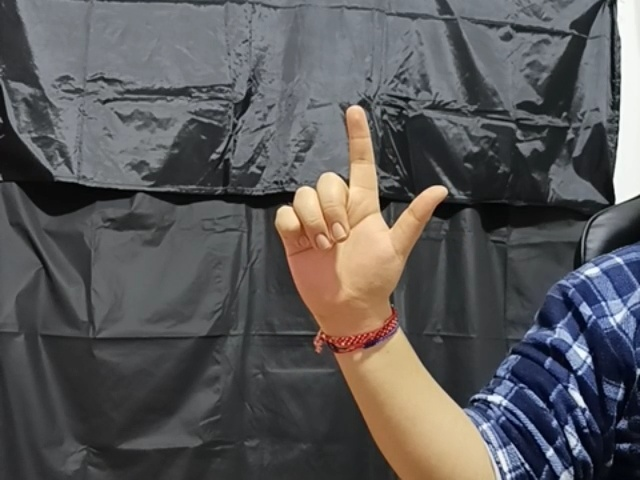L: (271, 100, 448, 316)
